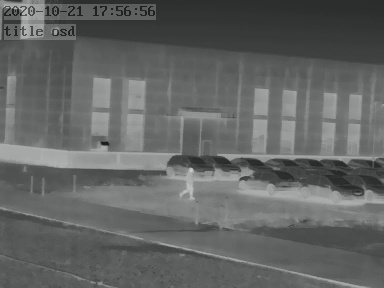person: (179, 167, 196, 201)
vehicle: (303, 173, 358, 200), (237, 169, 304, 191), (161, 153, 215, 178), (203, 153, 243, 177), (349, 173, 382, 199), (231, 154, 270, 172), (261, 155, 297, 170), (347, 156, 381, 171), (317, 156, 348, 171), (295, 155, 325, 169)
